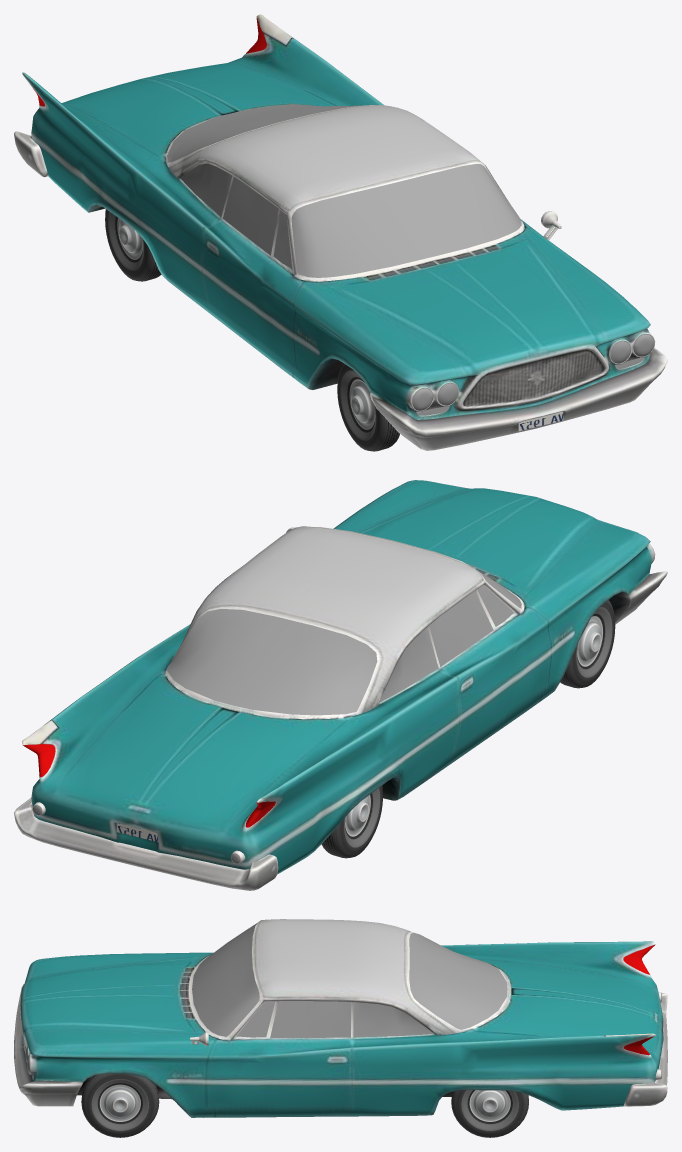
Rendered from veh_car50.glb.
3 views of the same model, one above another, from view 1: azimuth 30°, elevation 25°; view 2: azimuth 150°, elevation 25°; view 3: azimuth 270°, elevation 25° (orthographic). The views are drawn at different scales.
Parts seen in each view (by area): view 1: Object_3, Object_4, Object_2; view 2: Object_3, Object_4, Object_2; view 3: Object_3, Object_4, Object_2.
Boxes of the visible parts, bbox=[...] form: Object_3: bbox=[14, 14, 667, 450]; Object_4: bbox=[32, 18, 654, 415]; Object_2: bbox=[105, 209, 399, 451]; Object_3: bbox=[14, 480, 667, 890]; Object_4: bbox=[23, 570, 521, 863]; Object_2: bbox=[321, 600, 615, 858]; Object_3: bbox=[14, 919, 667, 1117]; Object_4: bbox=[25, 923, 661, 1078]; Object_2: bbox=[81, 1073, 528, 1137].
Size of the model in its own units: 216 by 140 by 573.
3 materials, 3 textured.
